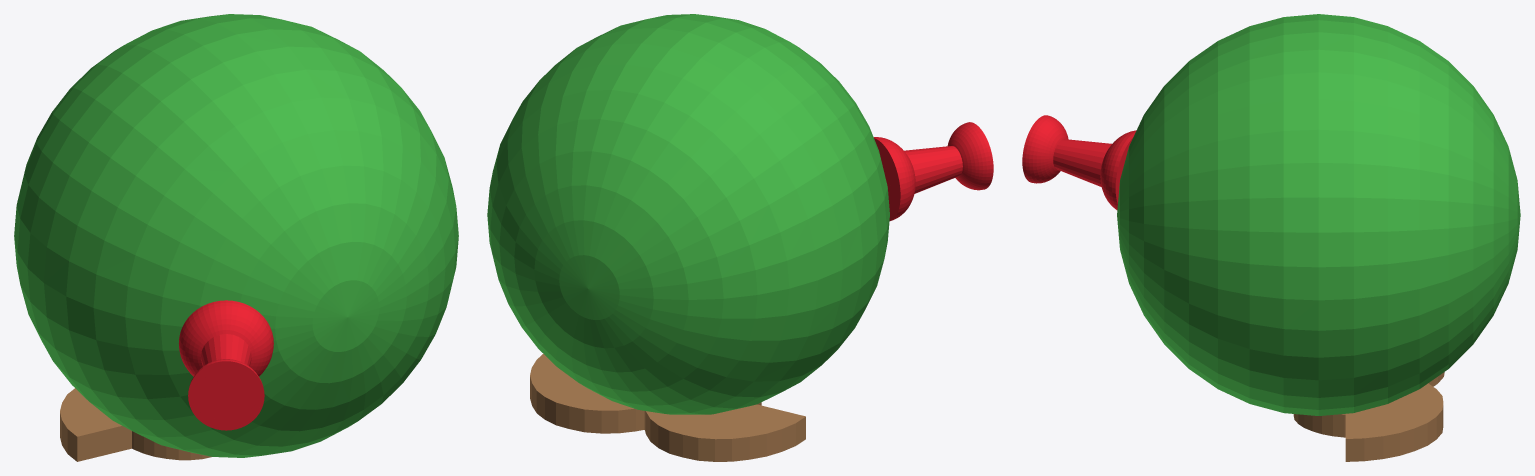
Rendered from Avater4.obj.
The picture shows the model from 3 angles, left to right: view 1: azimuth 30°, elevation 25°; view 2: azimuth 150°, elevation 25°; view 3: azimuth 270°, elevation 25°; orthographic projection. The views are drawn at different scales.
Visible parts, largest first — view 1: group_0_4634441, group_0_15277357, group_0_11107152; view 2: group_0_4634441, group_0_11107152, group_0_15277357; view 3: group_0_4634441, group_0_11107152, group_0_15277357.
Boxes of the visible parts, x1,y1,x2,y2 form: group_0_4634441: (14, 14, 458, 457); group_0_15277357: (178, 300, 273, 430); group_0_11107152: (60, 388, 211, 461); group_0_4634441: (487, 14, 889, 414); group_0_11107152: (530, 354, 805, 461); group_0_15277357: (874, 122, 993, 220); group_0_4634441: (1117, 14, 1520, 415); group_0_11107152: (1293, 372, 1444, 461); group_0_15277357: (1022, 115, 1136, 209).
Bounding box in the file's own units: 16 × 16 × 19.75.
